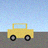vehicle: (8, 24, 33, 41)
